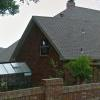Chimney: (61, 0, 78, 10)
